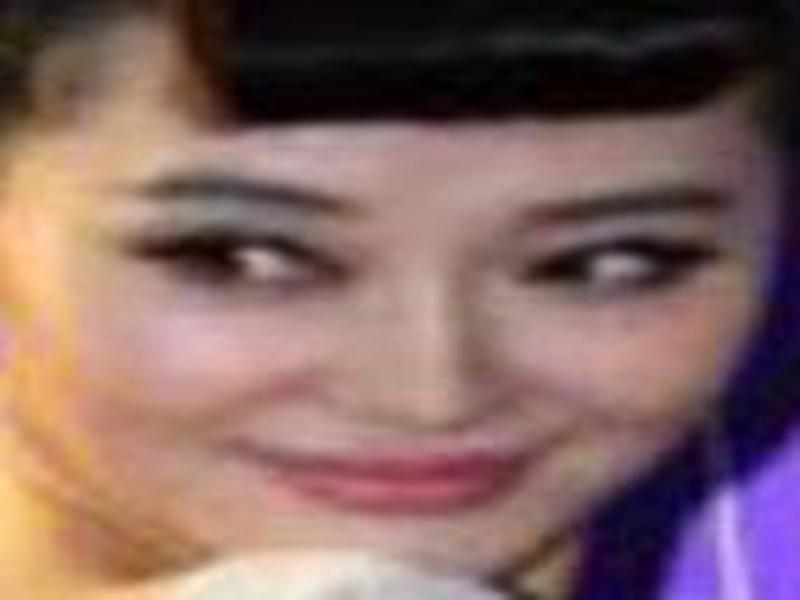without_mask: (6, 110, 774, 584)
